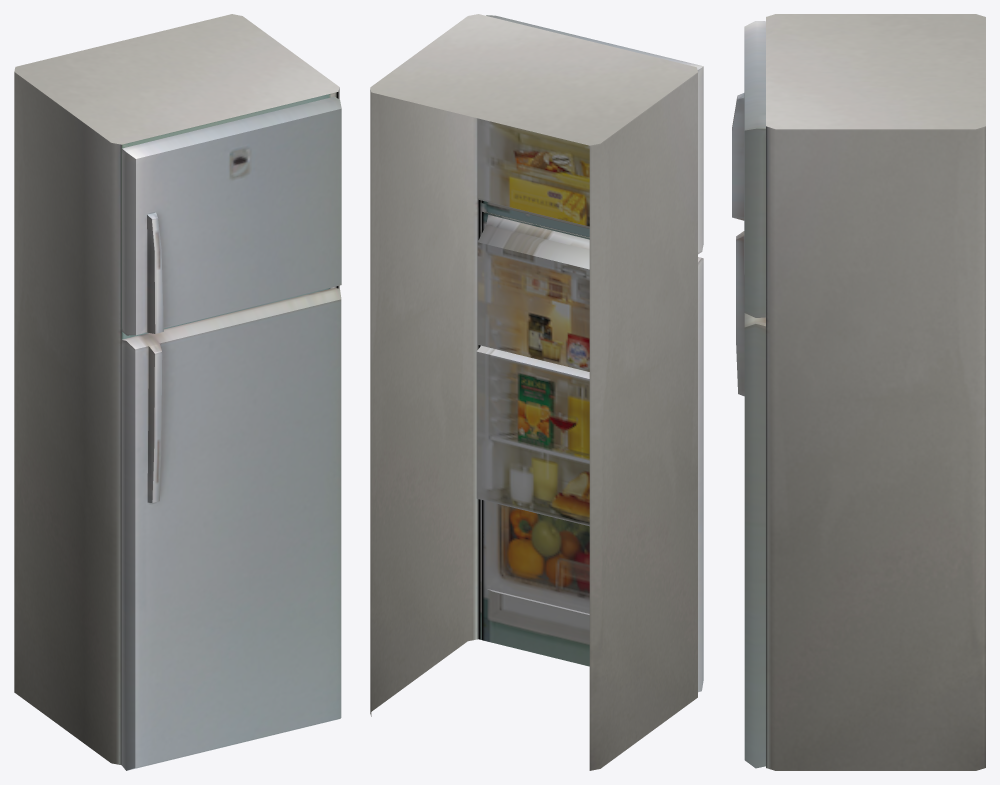
Rendered from B_Daily_R_St_N_Electric_0002.FBX.
3 renders of one model, left to right at view 1: azimuth 30°, elevation 25°; view 2: azimuth 150°, elevation 25°; view 3: azimuth 270°, elevation 25°, orthographic. The views are drawn at different scales.
Parts seen in each view (by area): view 1: B_Electric_0_007_2, B_Electric_0_007_3, B_Electric_0_007_1; view 2: B_Electric_0_007_3, B_Electric_0_007_2, B_Electric_0_007_1; view 3: B_Electric_0_007_3, B_Electric_0_007_2, B_Electric_0_007_1.
Boxes of the visible parts, bbox=[...] form: B_Electric_0_007_2: bbox=[121, 288, 341, 770]; B_Electric_0_007_3: bbox=[14, 14, 339, 765]; B_Electric_0_007_1: bbox=[122, 96, 341, 335]; B_Electric_0_007_3: bbox=[370, 14, 697, 770]; B_Electric_0_007_2: bbox=[482, 211, 703, 692]; B_Electric_0_007_1: bbox=[482, 15, 703, 254]; B_Electric_0_007_3: bbox=[766, 14, 985, 770]; B_Electric_0_007_2: bbox=[736, 231, 765, 768]; B_Electric_0_007_1: bbox=[732, 21, 765, 317].
Bounding box in the file's own units: 29.21 × 76.07 × 27.17.
1 material, 1 textured.
